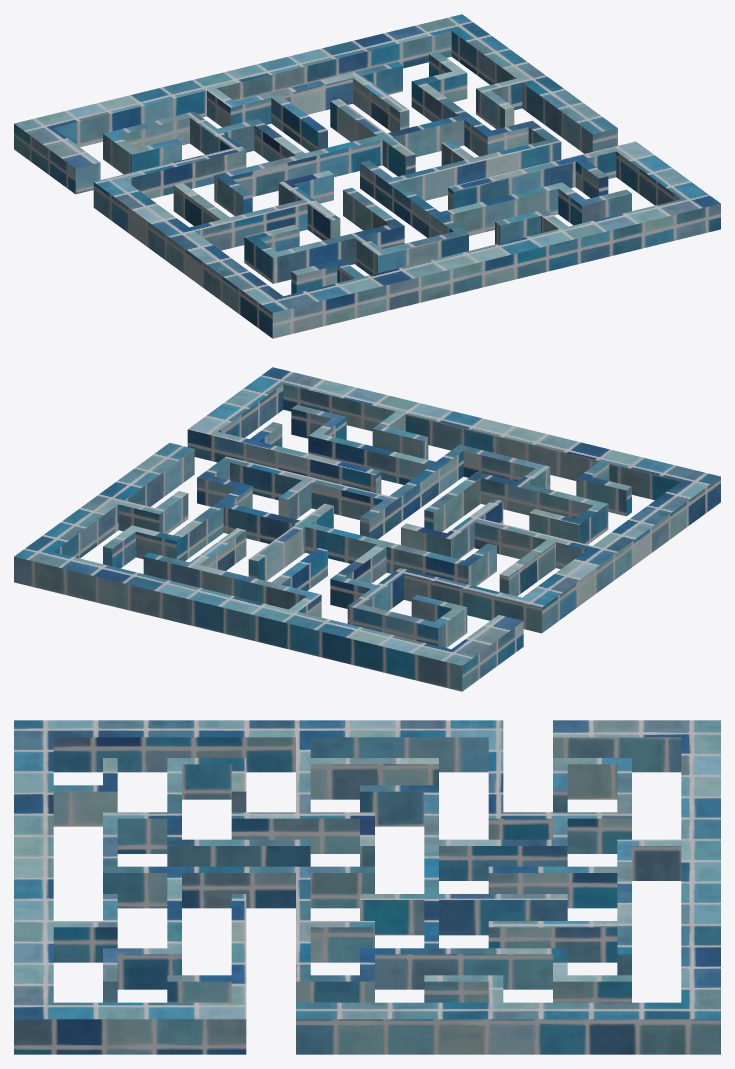
Rendered from maze.fbx.
The picture shows the model from 3 angles, top to bottom: view 1: azimuth 30°, elevation 25°; view 2: azimuth 150°, elevation 25°; view 3: azimuth 270°, elevation 25°; orthographic projection. The views are drawn at different scales.
Parts seen in each view (by area): view 1: Maze; view 2: Maze; view 3: Maze.
Part boxes in pixels (left/top/right/bottom): Maze: left=14, top=14, right=720, bottom=338; Maze: left=14, top=367, right=720, bottom=691; Maze: left=14, top=720, right=720, bottom=1054.
Bounding box in the file's own units: 1000 × 55 × 1000.
